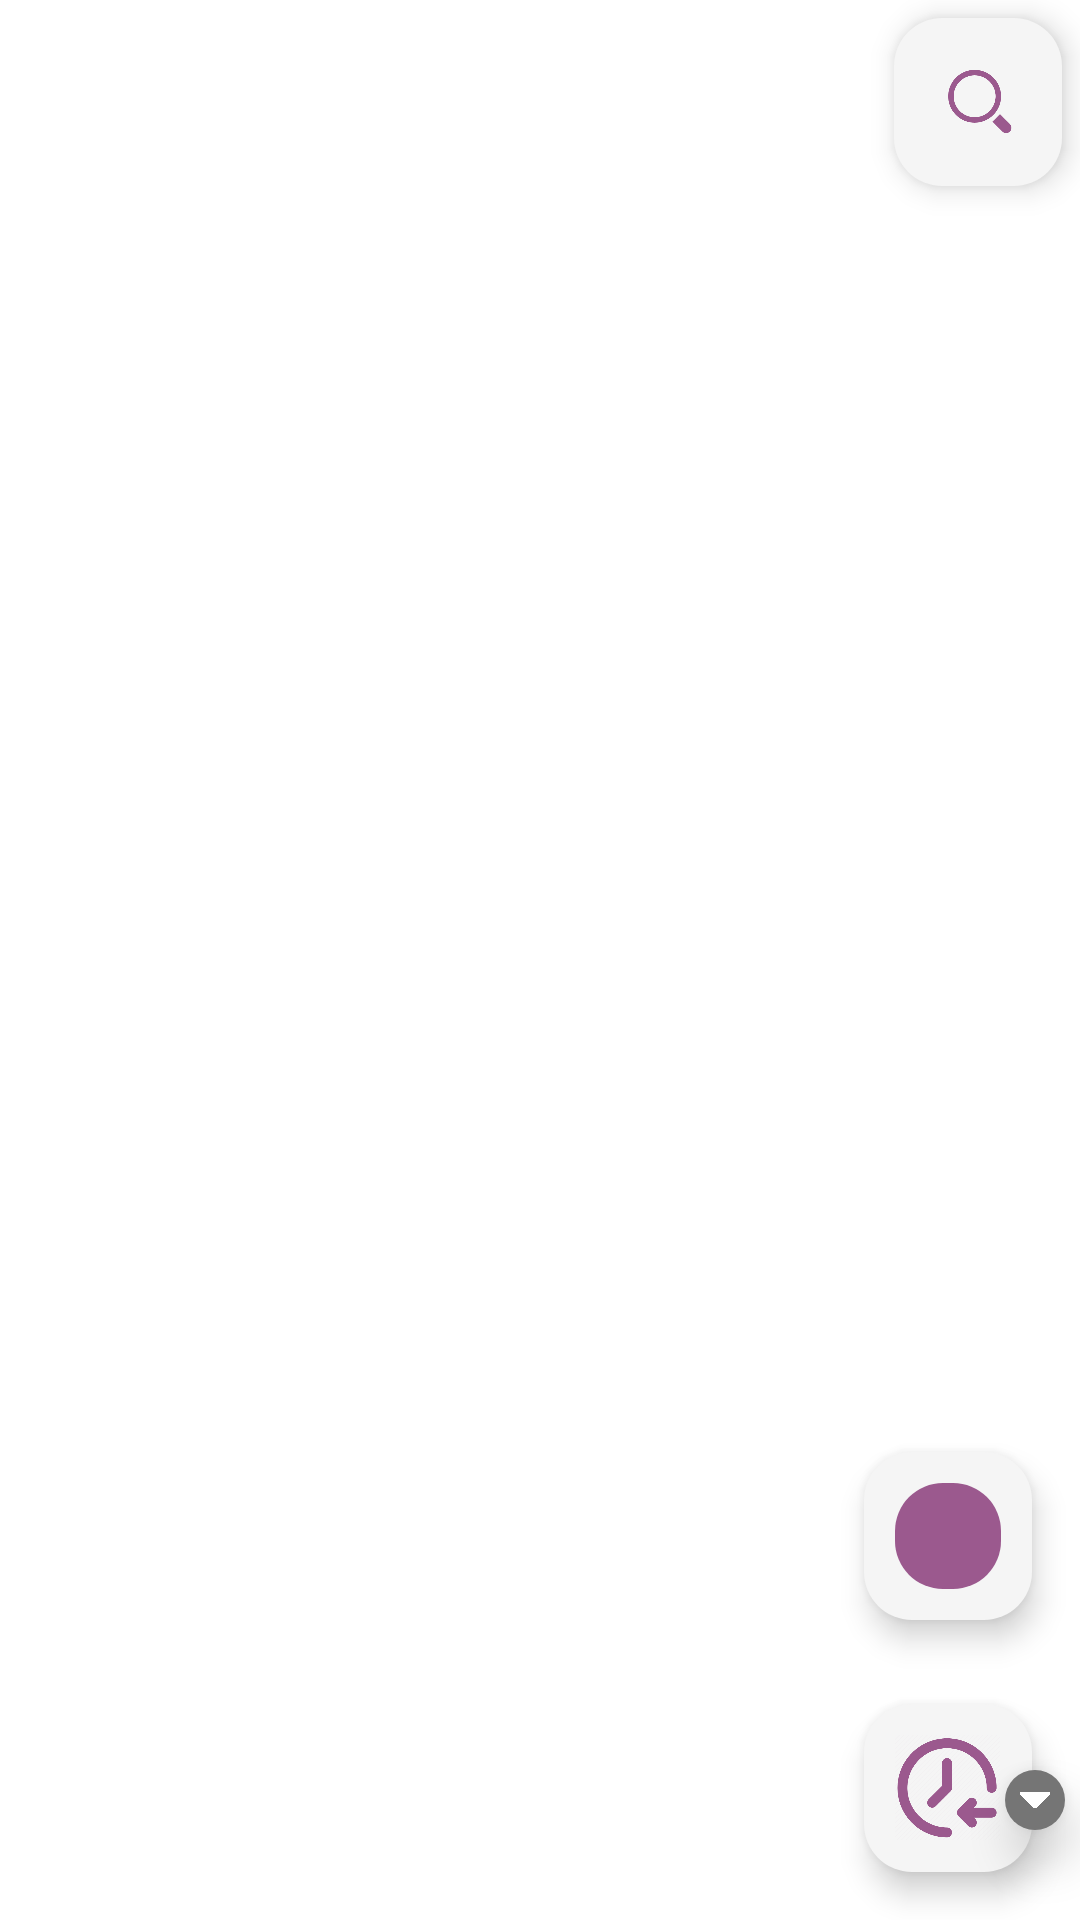

Icons on this 1080x1920 Android screen, each with the point to tap as (x,y):
arrow downward: (1035,1800)
search: (979,101)
sort date: (947,1788)
